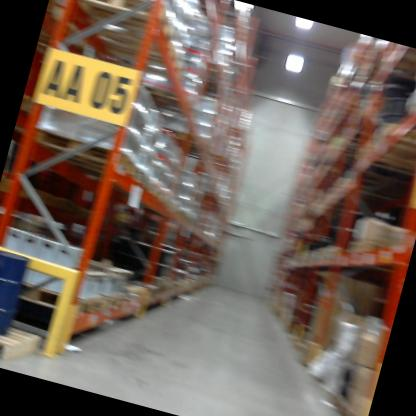pallet: (0, 117, 138, 334), (69, 0, 190, 55), (0, 308, 50, 374)
